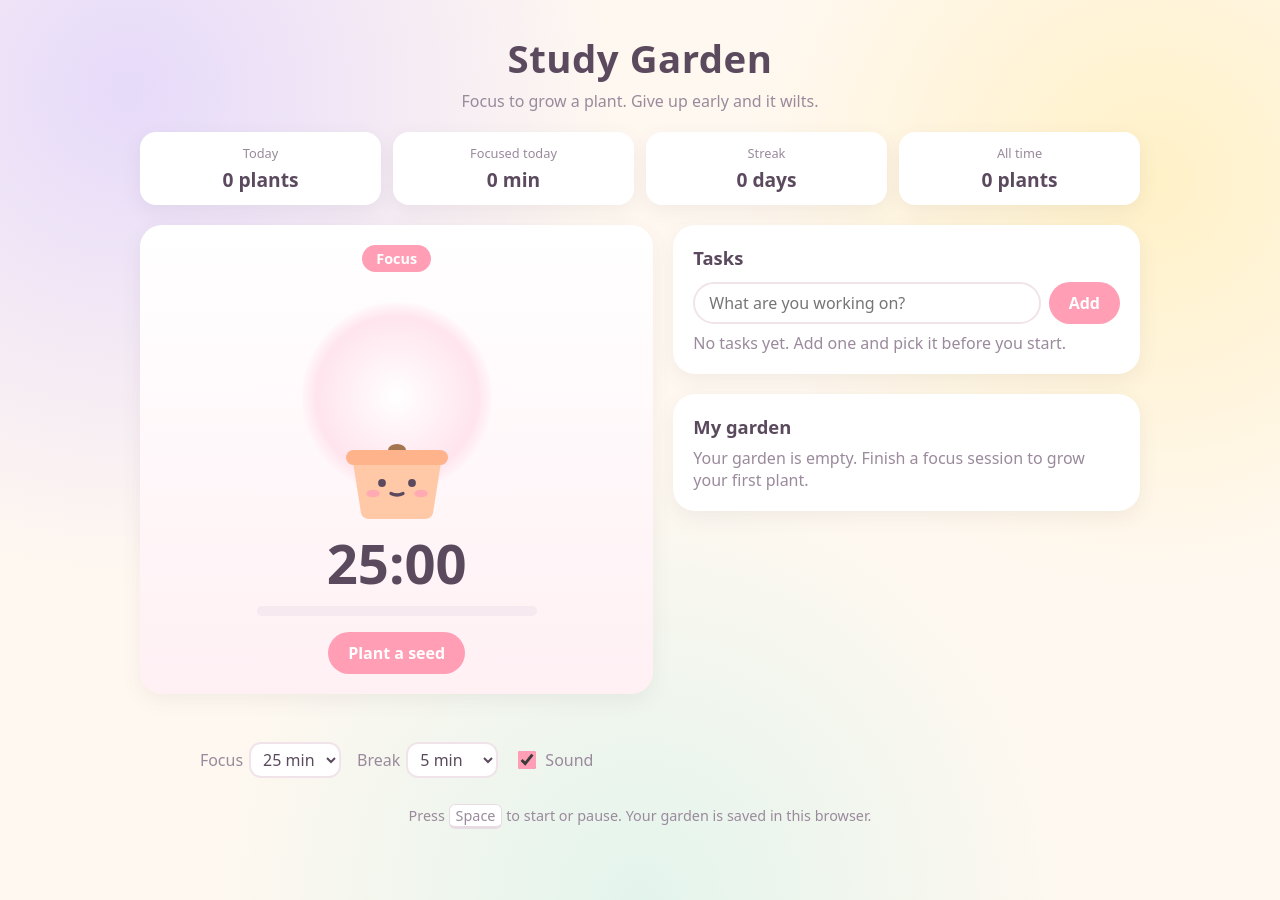
Scenario: App › moves to a break after a session and back again
This screenshot has width=1280, height=900.
Click the button "Plant a seed".
click(397, 653)  # box [328, 632, 465, 674]
Wait 1500000 ms
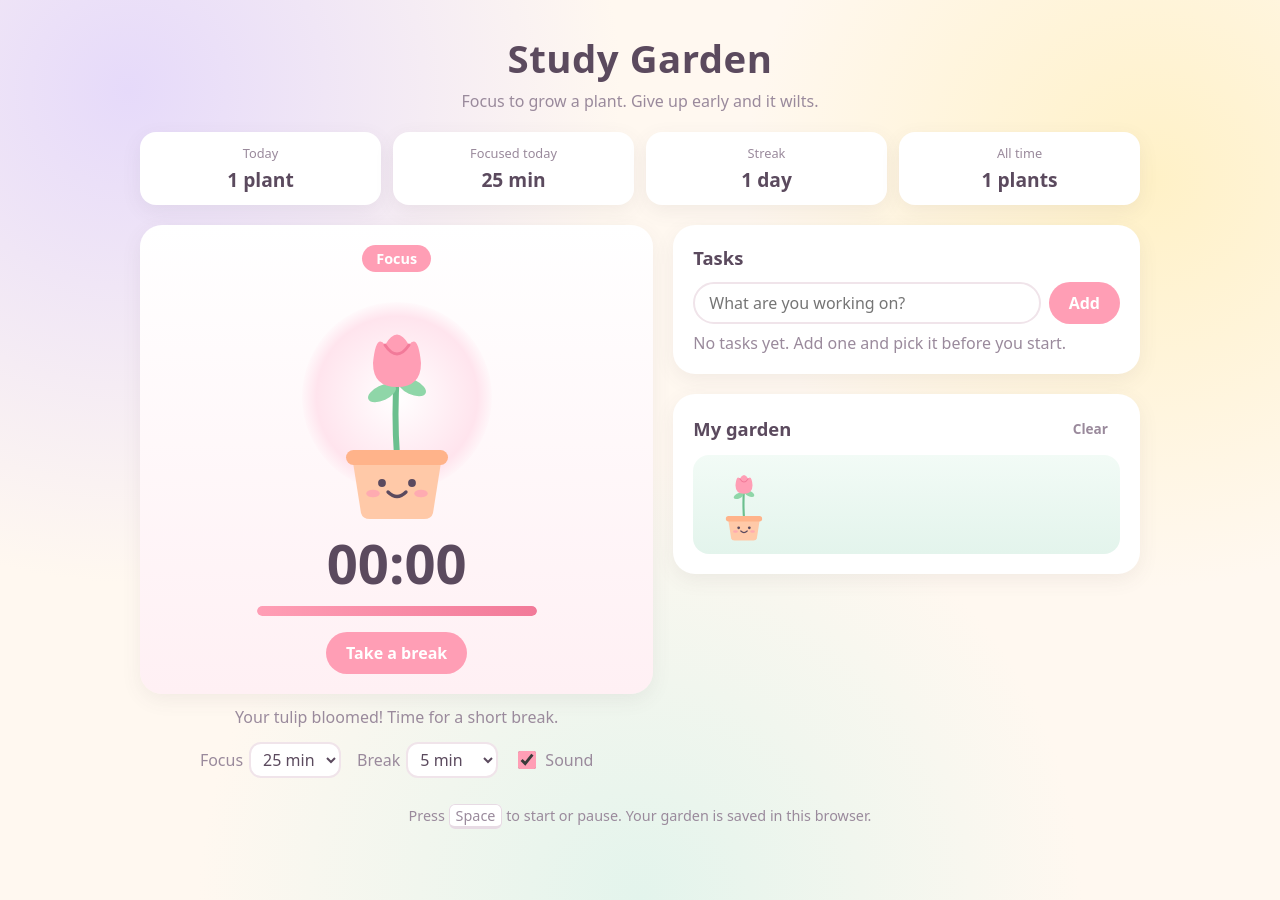
Click the button "Take a break".
click(397, 653)  # box [326, 632, 467, 674]
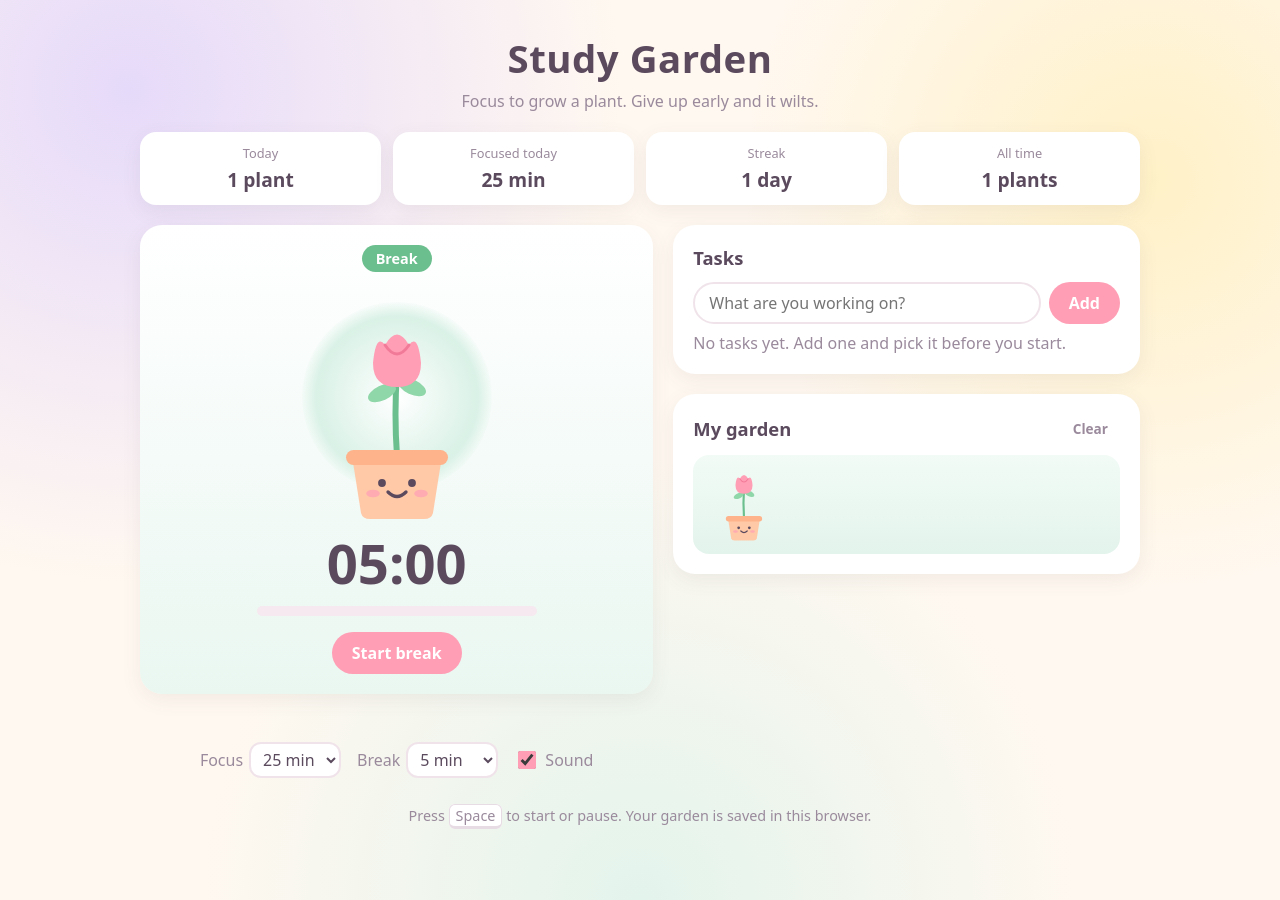
Result: the heading "Break" is shown at [362, 245, 432, 272]
Result: the text "05:00" is shown at [327, 526, 467, 600]
Click the button "Start break".
click(397, 653)  # box [332, 632, 462, 674]
Wait 300000 ms
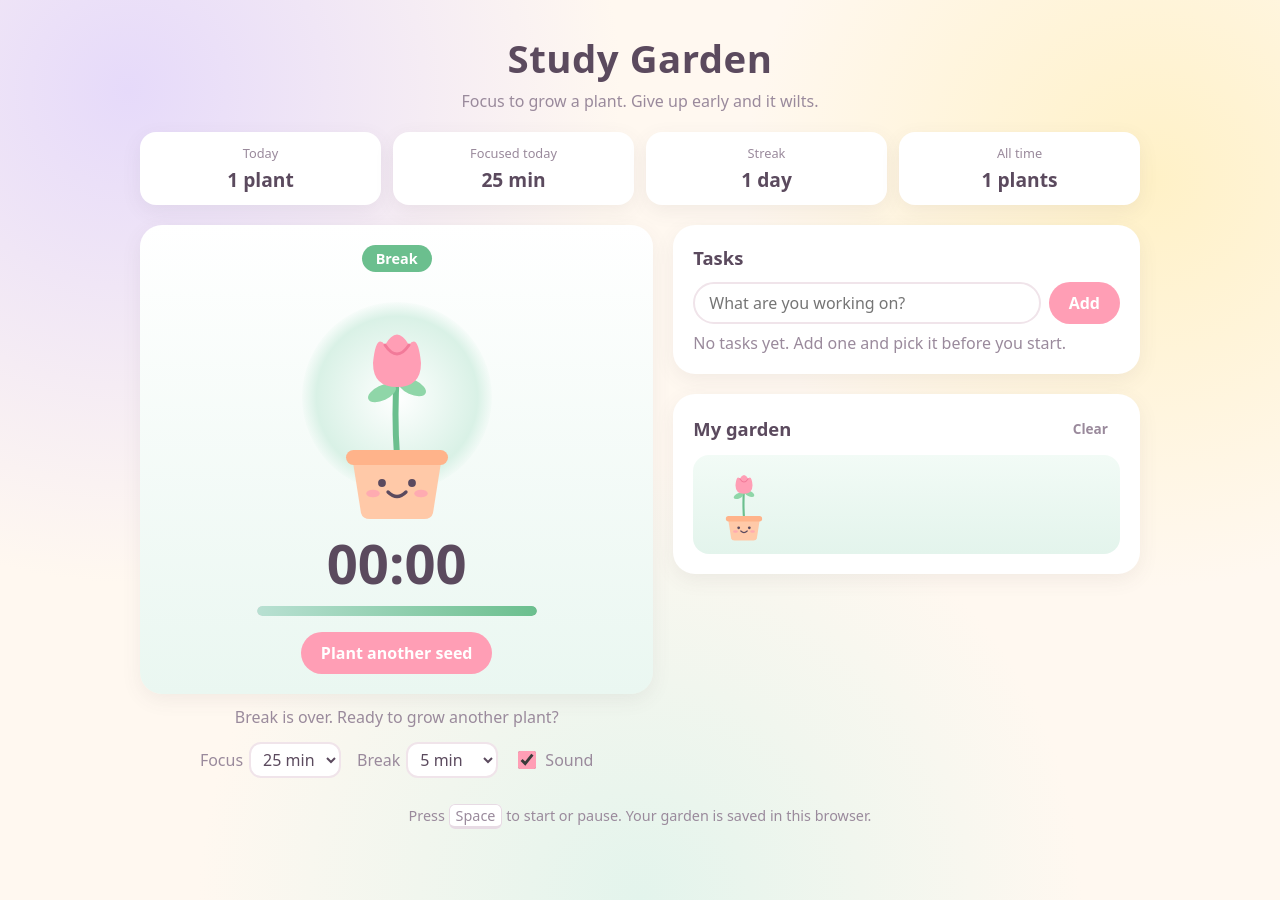
Click the button "Plant another seed".
click(397, 653)  # box [301, 632, 492, 674]
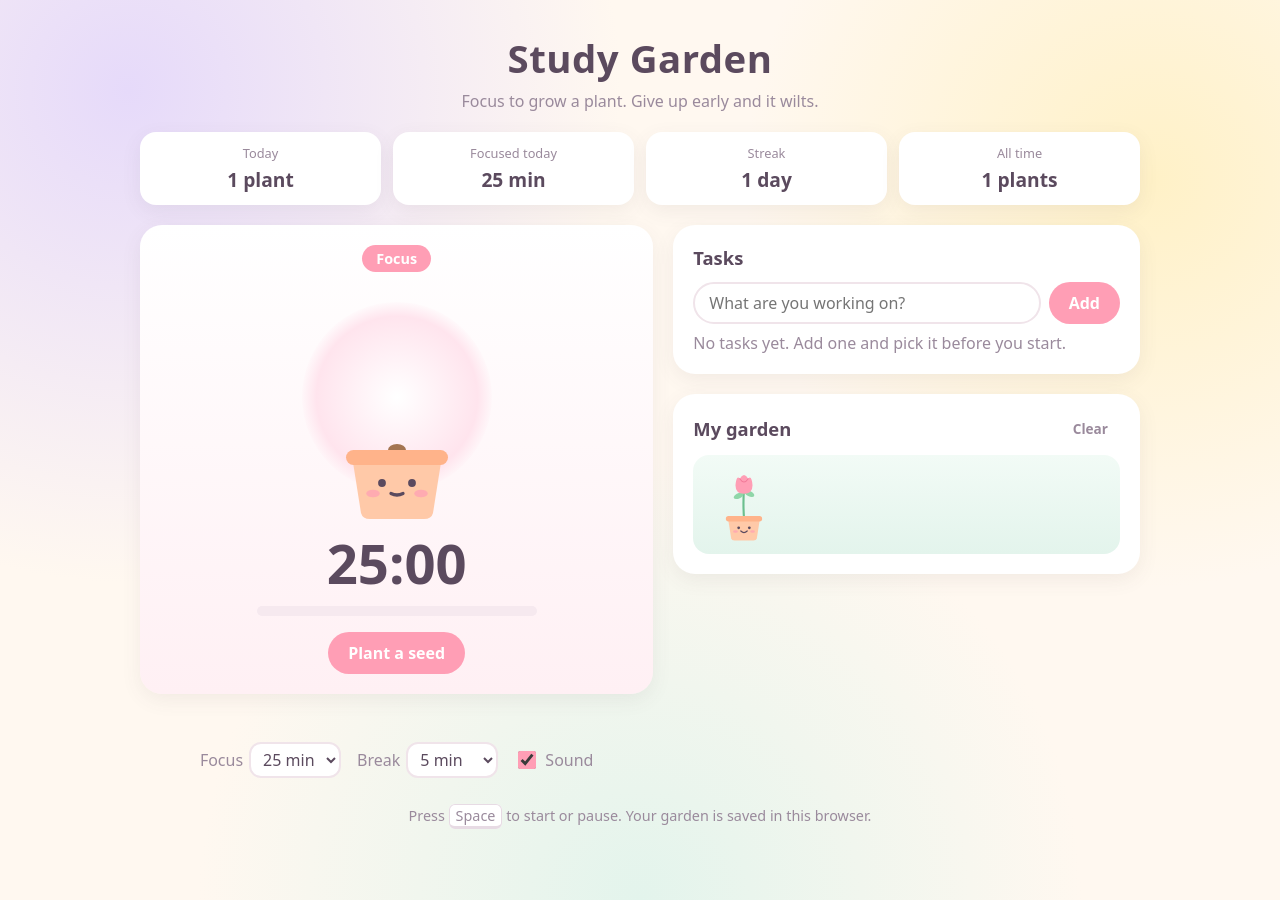
Result: the picture named "seed daisy" is shown at [307, 312, 487, 522]
